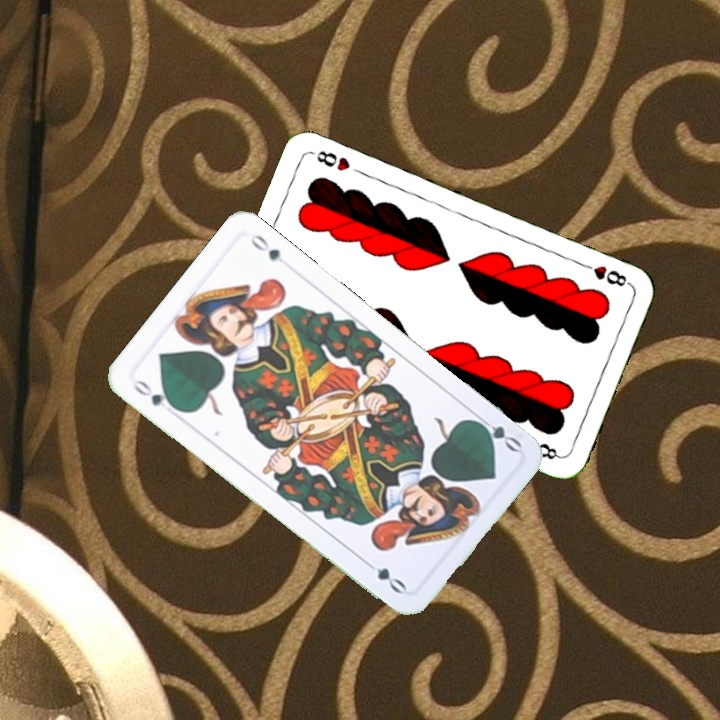GO: (469, 410, 524, 455), (129, 375, 181, 413)
H8: (576, 259, 633, 289)
